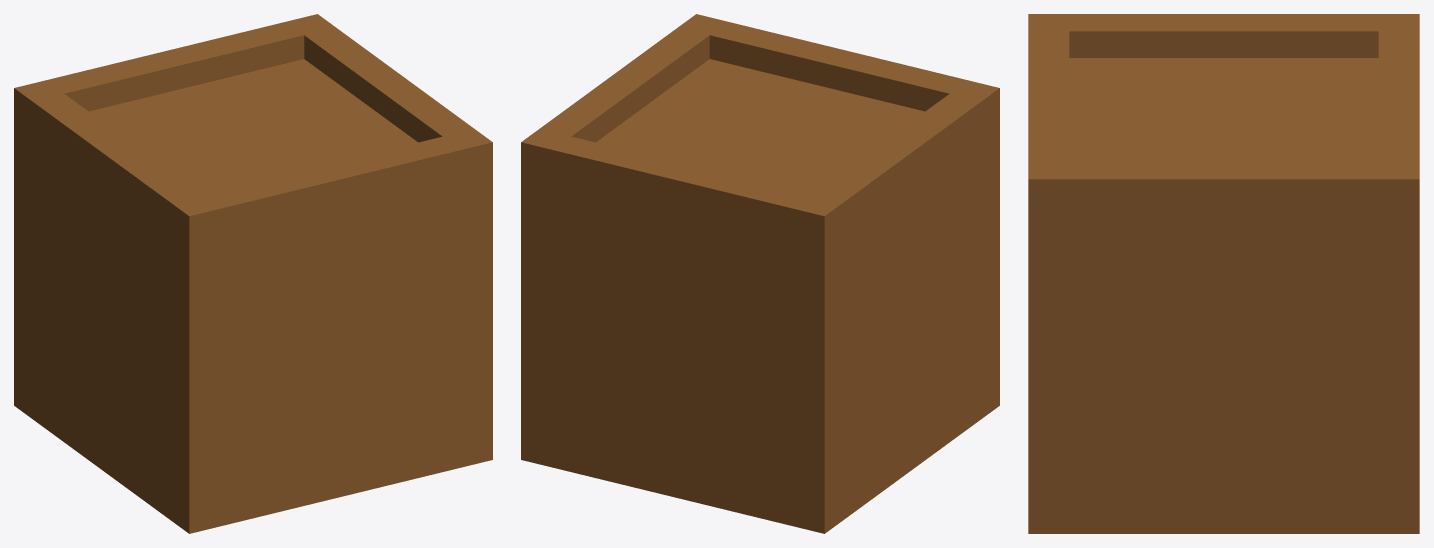
Rendered from caja.fbx.
3 views of the same model, side by side, from view 1: azimuth 30°, elevation 25°; view 2: azimuth 150°, elevation 25°; view 3: azimuth 270°, elevation 25° (orthographic). The views are drawn at different scales.
Visible parts, largest first — view 1: Cube; view 2: Cube; view 3: Cube.
Boxes of the visible parts, x1=… form: Cube: x1=14, y1=14, x2=492, y2=533; Cube: x1=521, y1=14, x2=999, y2=533; Cube: x1=1028, y1=14, x2=1419, y2=533.
Bounding box in the file's own units: 248 × 248 × 248.
